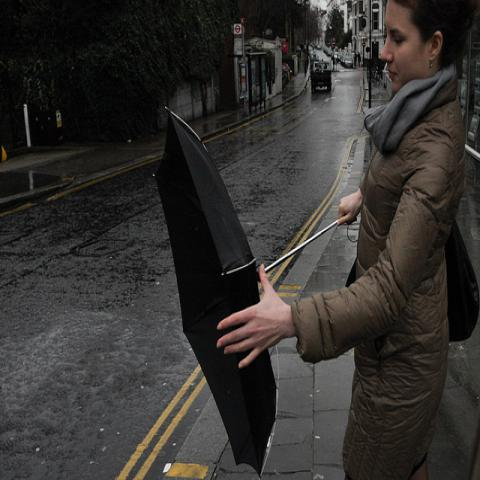car: (345, 56, 353, 69), (337, 53, 343, 63), (325, 48, 332, 56), (334, 51, 338, 59), (317, 45, 321, 50)
truck: (311, 61, 332, 92)
